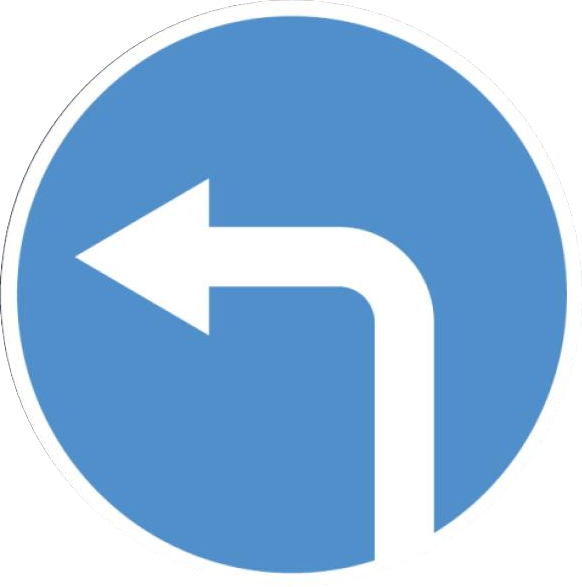turn_left: (13, 5, 554, 560)
